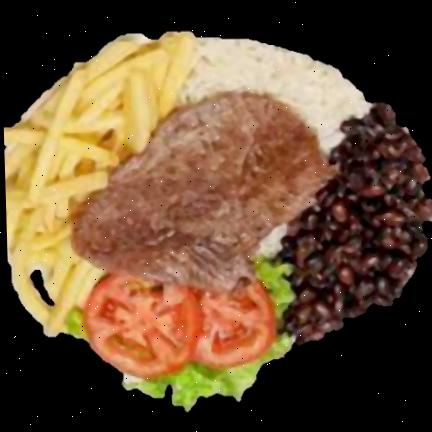beans: (276, 103, 431, 344)
meat: (70, 92, 332, 290)
potato: (4, 33, 194, 335)
rice: (180, 36, 370, 151)
salad: (122, 332, 291, 410)
tomato: (82, 273, 276, 378)
